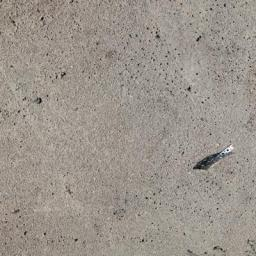FOD: (192, 145, 240, 173)
